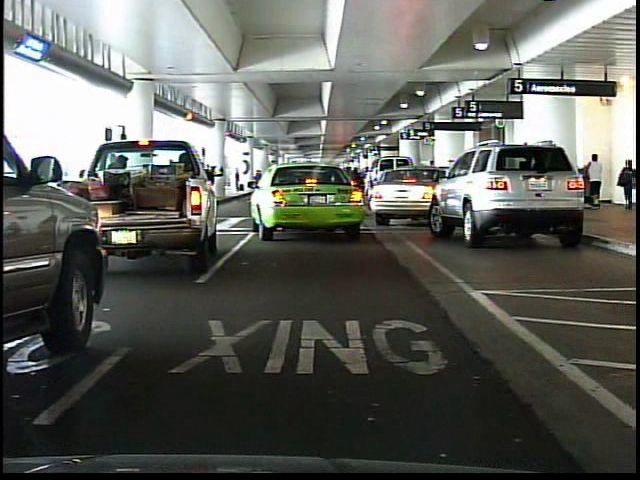person: (589, 151, 608, 212), (617, 158, 636, 213)
